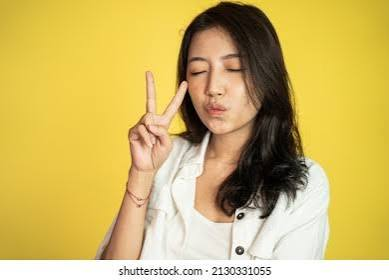peace_sign: (126, 64, 189, 169)
